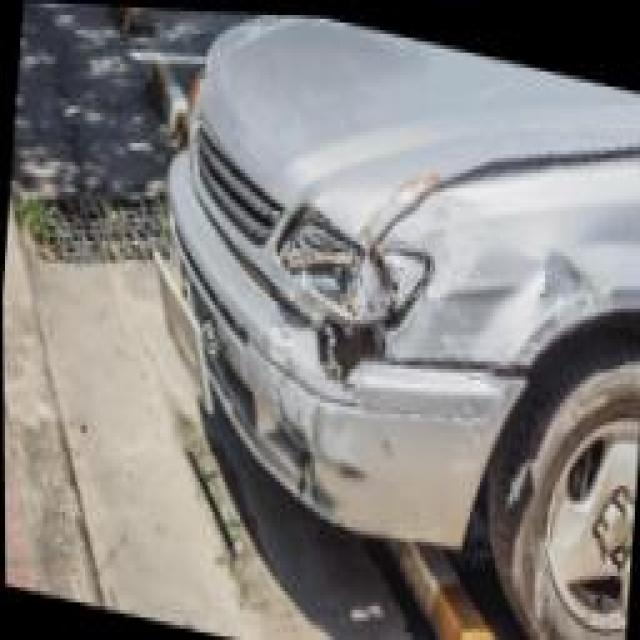Bumper: (222, 294, 524, 559)
Fender: (385, 200, 606, 382)
Light: (270, 203, 408, 337)
